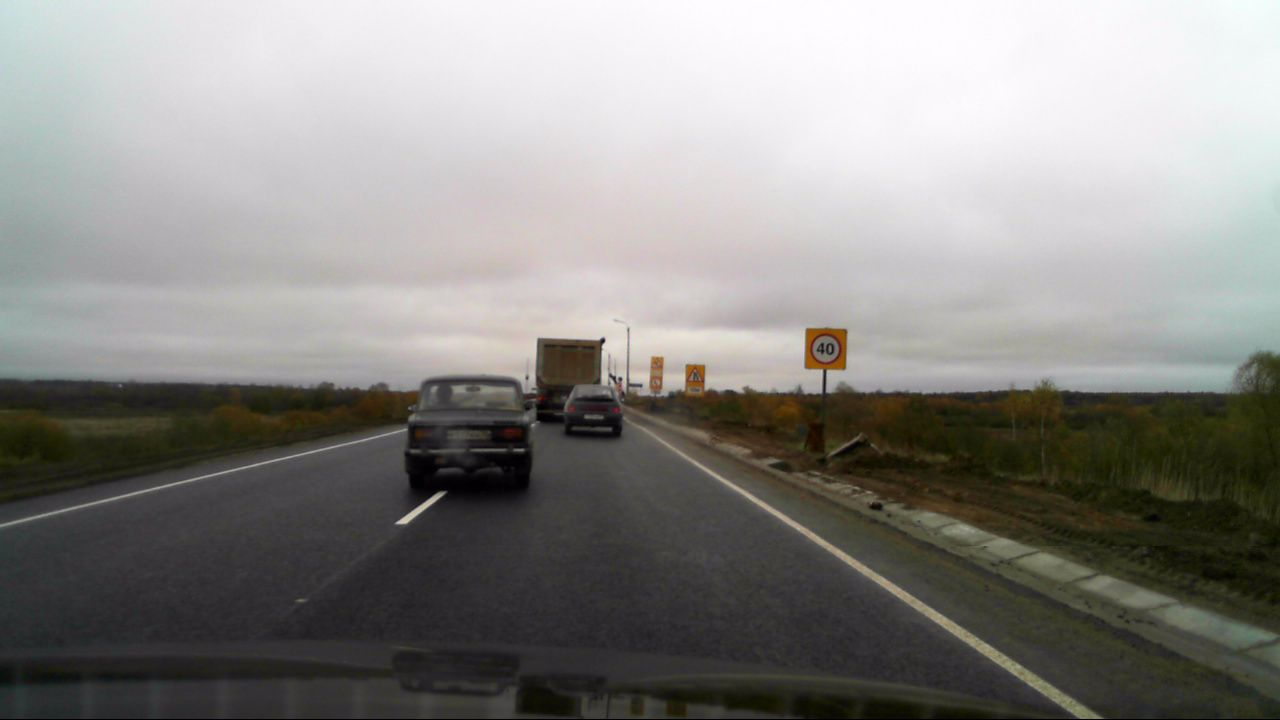speed_warning_40: (805, 328, 845, 369)
